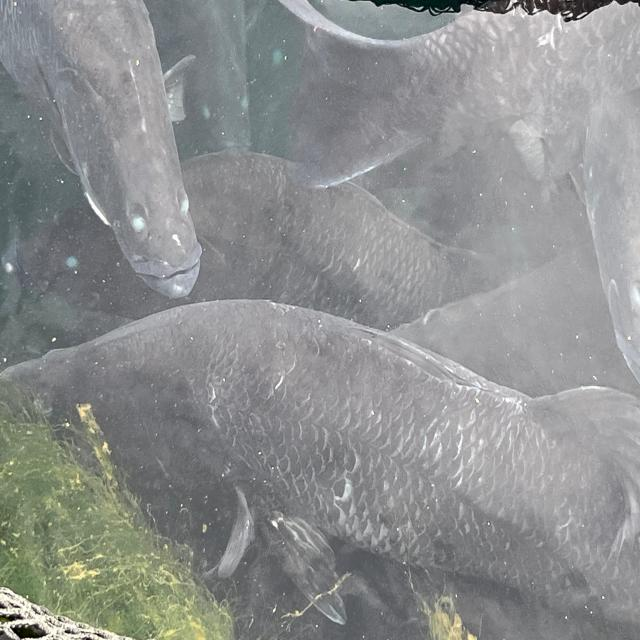ikan: (1, 296, 638, 628), (0, 0, 204, 300)
